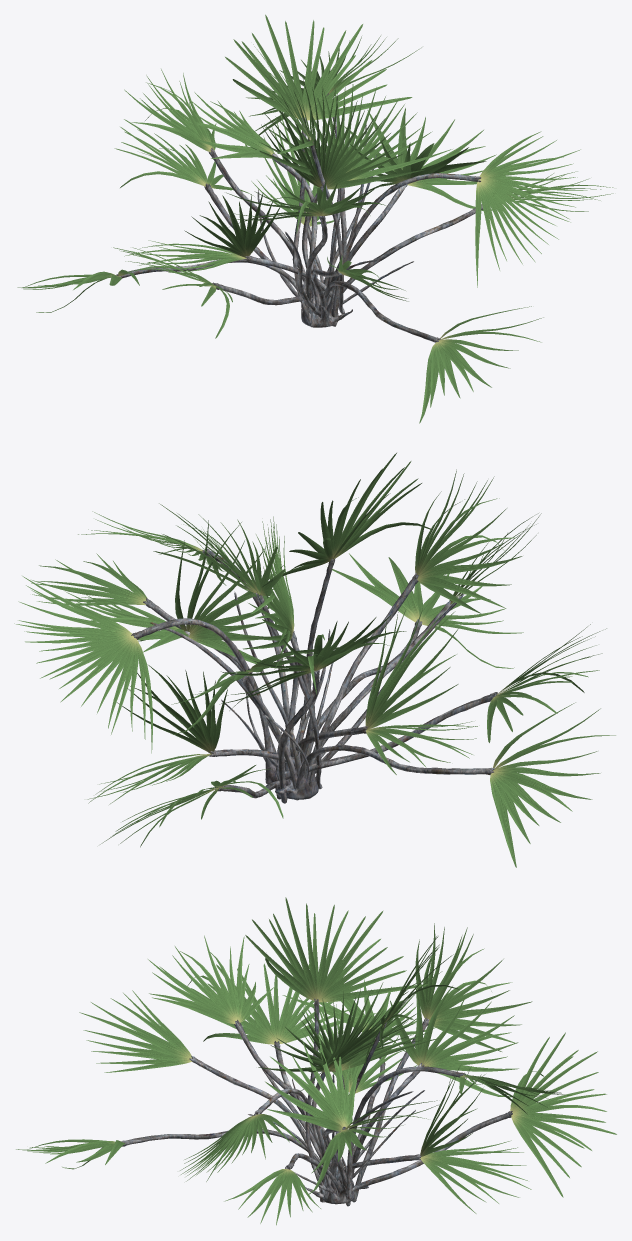
3 renders of one model, top to bottom at view 1: azimuth 30°, elevation 25°; view 2: azimuth 150°, elevation 25°; view 3: azimuth 270°, elevation 25°, orthographic. The views are drawn at different scales.
Parts seen in each view (by area): view 1: Leaves, Branches, TrunkRoot; view 2: Leaves, Branches, TrunkRoot; view 3: Leaves, Branches, TrunkRoot.
Part boxes in pixels (bbox=[...]): Leaves: bbox=[17, 14, 613, 423]; Branches: bbox=[116, 93, 482, 342]; TrunkRoot: bbox=[301, 268, 352, 327]; Leaves: bbox=[14, 453, 615, 867]; Branches: bbox=[131, 548, 497, 803]; TrunkRoot: bbox=[263, 720, 325, 799]; Leaves: bbox=[16, 897, 616, 1225]; Branches: bbox=[121, 998, 512, 1206]; TrunkRoot: bbox=[304, 1154, 368, 1204].
Size of the model in its own units: 170 by 86.57 by 171.
